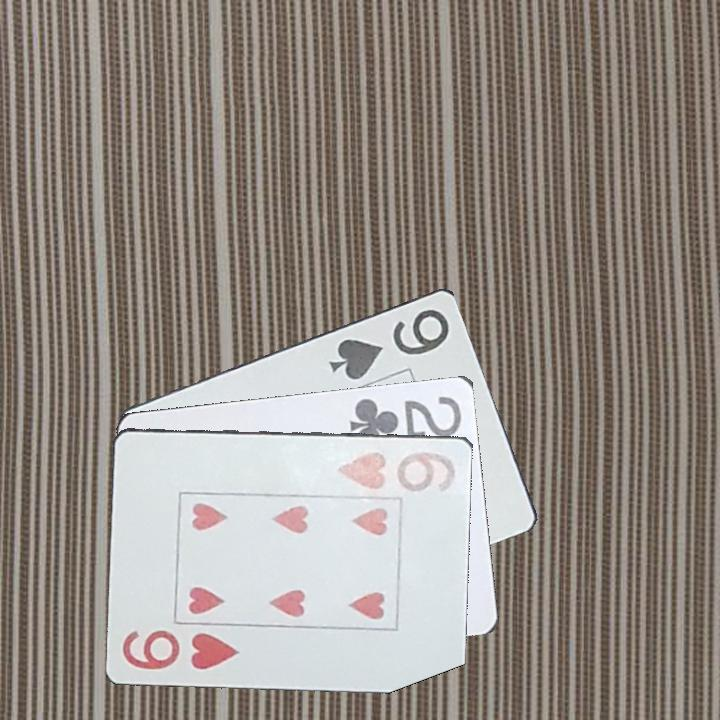2c: (346, 392, 465, 450)
6h: (333, 444, 459, 496), (119, 625, 243, 672)
9s: (325, 304, 453, 383)
